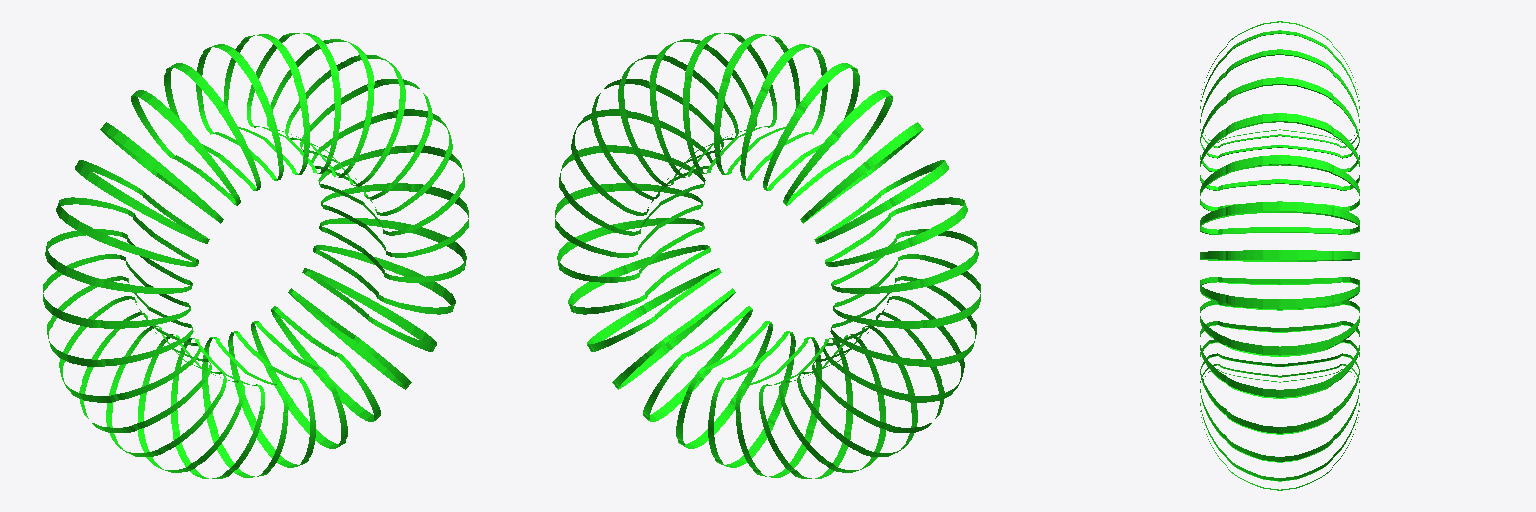
Rendered from vanallen-inner.obj.
The picture shows the model from 3 angles: view 1: azimuth 30°, elevation 25°; view 2: azimuth 150°, elevation 25°; view 3: azimuth 270°, elevation 25°; orthographic projection.
Size of the model in its own units: 4.34 by 4.33 by 1.48.